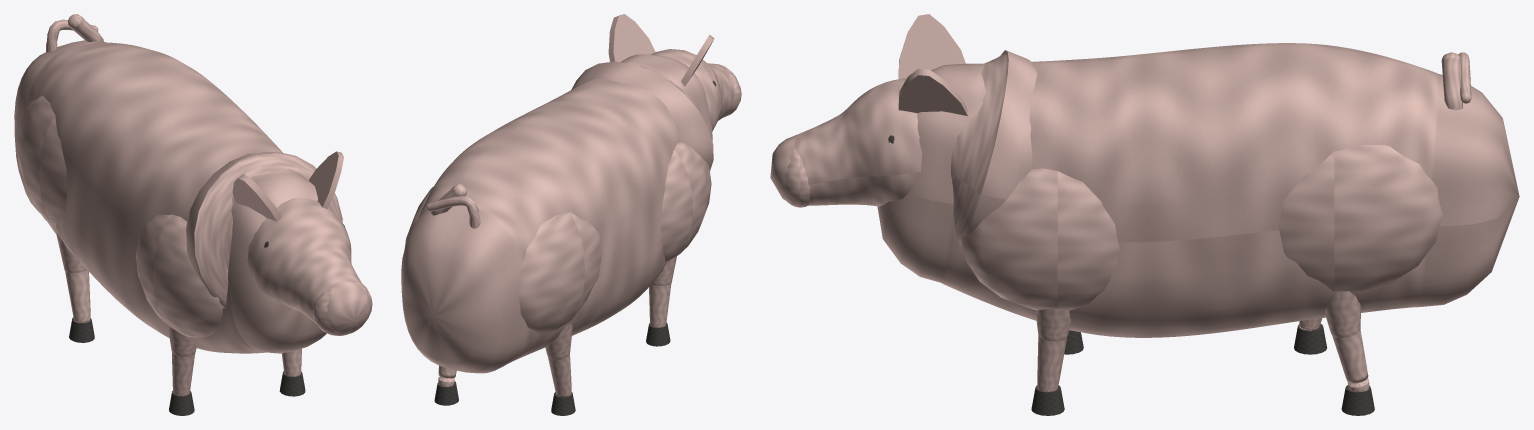
File: pig.glb
3 views of the same model, side by side, from view 1: azimuth 30°, elevation 25°; view 2: azimuth 150°, elevation 25°; view 3: azimuth 270°, elevation 25° (orthographic). The views are drawn at different scales.
Parts seen in each view (by area): view 1: pig; view 2: pig; view 3: pig.
Boxes of the visible parts, x1=… form: pig: x1=14, y1=14, x2=372, y2=415; pig: x1=401, y1=14, x2=741, y2=415; pig: x1=770, y1=14, x2=1519, y2=415.
Bounding box in the file's own units: 0.5076 × 0.7948 × 1.6.
2 materials, 2 textured.
